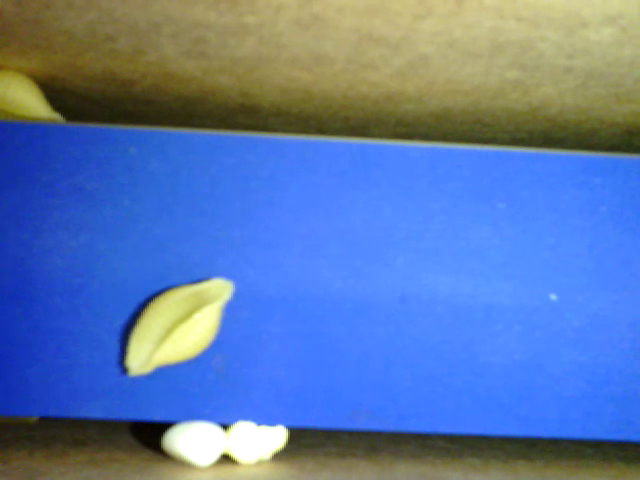shell: (122, 274, 237, 381), (1, 64, 65, 125)
